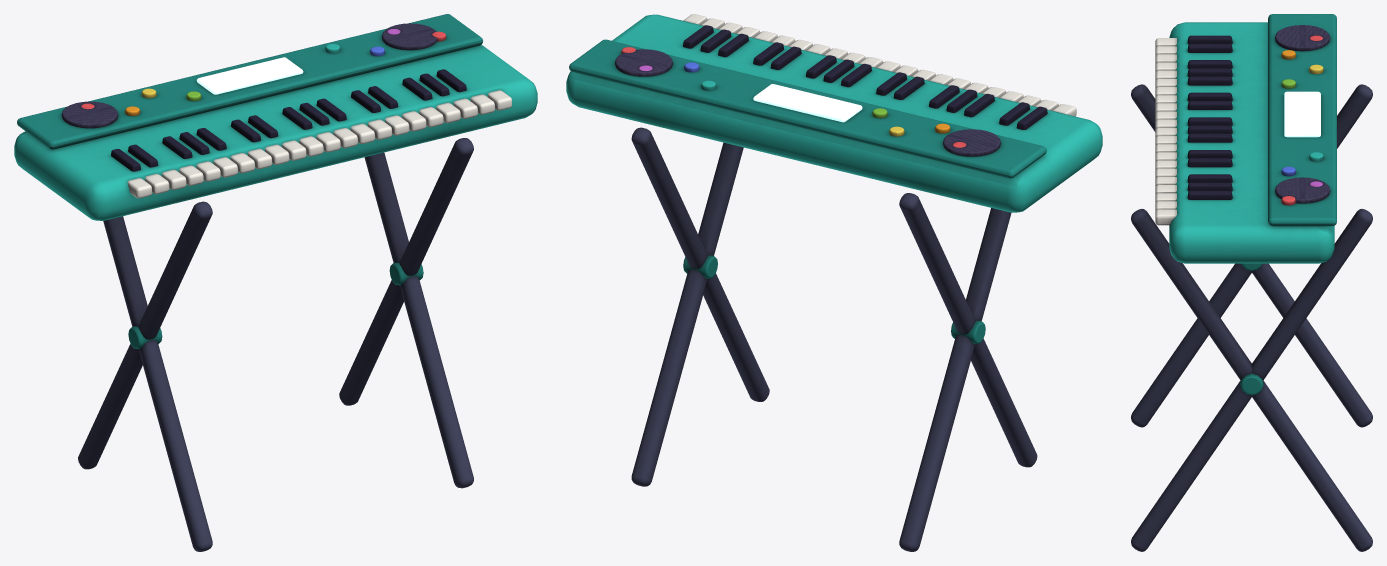
Rendered from DigitalKeyboard.fbx.
3 renders of one model, left to right at view 1: azimuth 30°, elevation 25°; view 2: azimuth 150°, elevation 25°; view 3: azimuth 270°, elevation 25°, orthographic. The views are drawn at different scales.
Visible parts, largest first — view 1: DigitalKeyboard_Body; view 2: DigitalKeyboard_Body; view 3: DigitalKeyboard_Body, Key_58_Mesh.001, Key_75_Mesh.001, Key_70_Mesh.001, Key_51_Mesh.001, Key_82_Mesh.001, Key_56_Mesh.001, Key_66_Mesh.001, Key_68_Mesh.001, Key_78_Mesh.001, Key_54_Mesh.001, Key_63_Mesh.001 (+5 smaller).
Boxes of the visible parts, box(x1,y1,x2,y2) form: DigitalKeyboard_Body: box(14, 14, 537, 551); DigitalKeyboard_Body: box(566, 14, 1102, 551); DigitalKeyboard_Body: box(1131, 14, 1372, 551); Key_58_Mesh.001: box(1187, 76, 1232, 85); Key_75_Mesh.001: box(1187, 158, 1232, 167); Key_70_Mesh.001: box(1187, 133, 1232, 142); Key_51_Mesh.001: box(1187, 43, 1232, 52); Key_82_Mesh.001: box(1187, 190, 1232, 199); Key_56_Mesh.001: box(1187, 68, 1232, 77); Key_66_Mesh.001: box(1187, 117, 1232, 126); Key_68_Mesh.001: box(1187, 125, 1232, 134); Key_78_Mesh.001: box(1187, 174, 1232, 183); Key_54_Mesh.001: box(1187, 60, 1232, 68); Key_63_Mesh.001: box(1187, 101, 1232, 109).
Bounding box in the file's own units: 1.1 × 0.9027 × 0.526.
